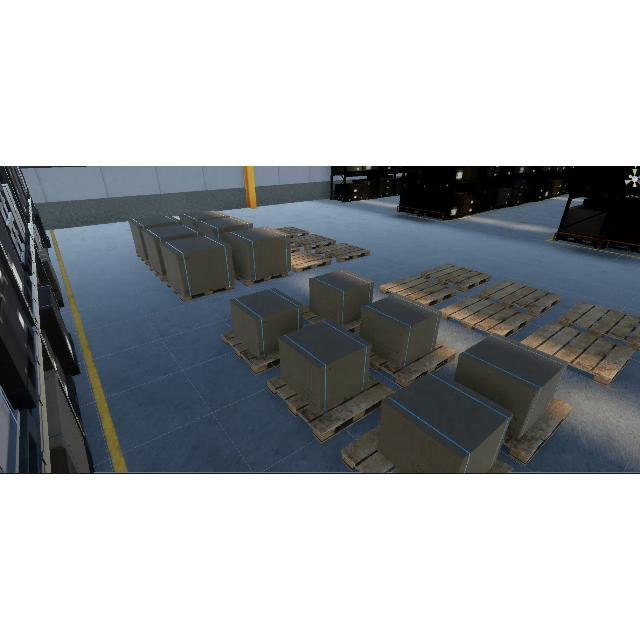wooden_pallet: (265, 372, 393, 447), (339, 424, 517, 474), (519, 319, 637, 388), (501, 396, 573, 467), (438, 294, 534, 339), (369, 338, 457, 387), (558, 300, 640, 352), (217, 328, 280, 376), (476, 279, 560, 315), (380, 275, 456, 307), (421, 263, 491, 292), (166, 280, 239, 303), (314, 242, 369, 263), (290, 250, 332, 274), (234, 271, 290, 287), (289, 233, 336, 250), (273, 225, 310, 238)
